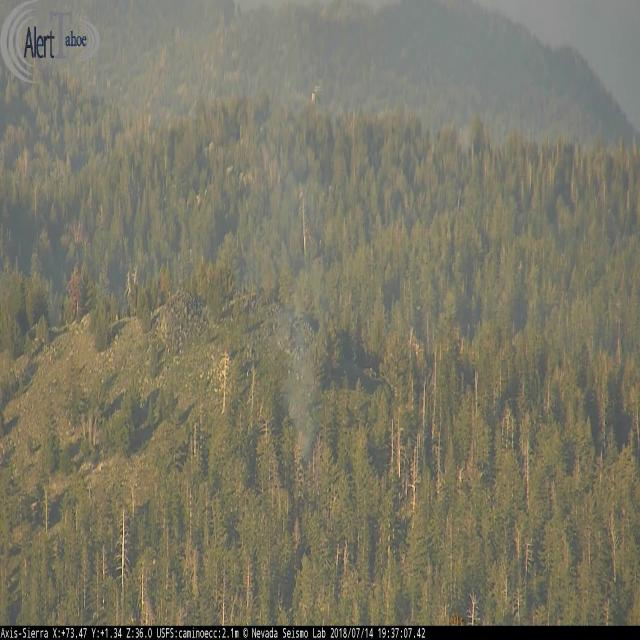smoke: (230, 28, 333, 465)
